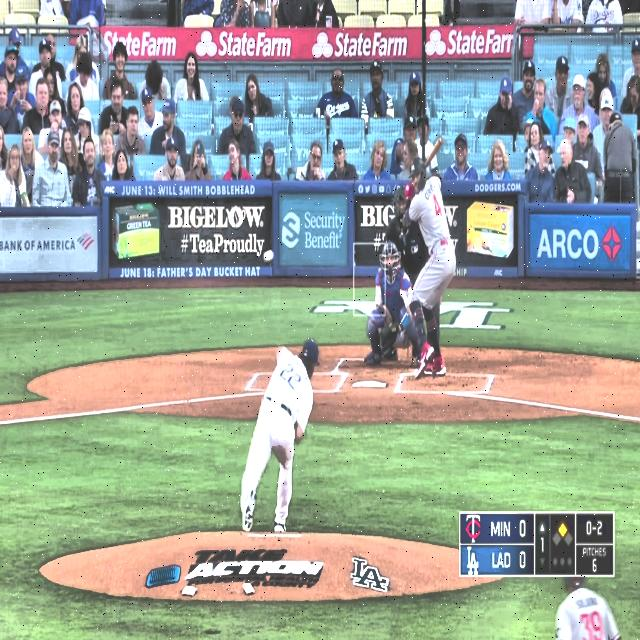baseball: (262, 248, 275, 264)
